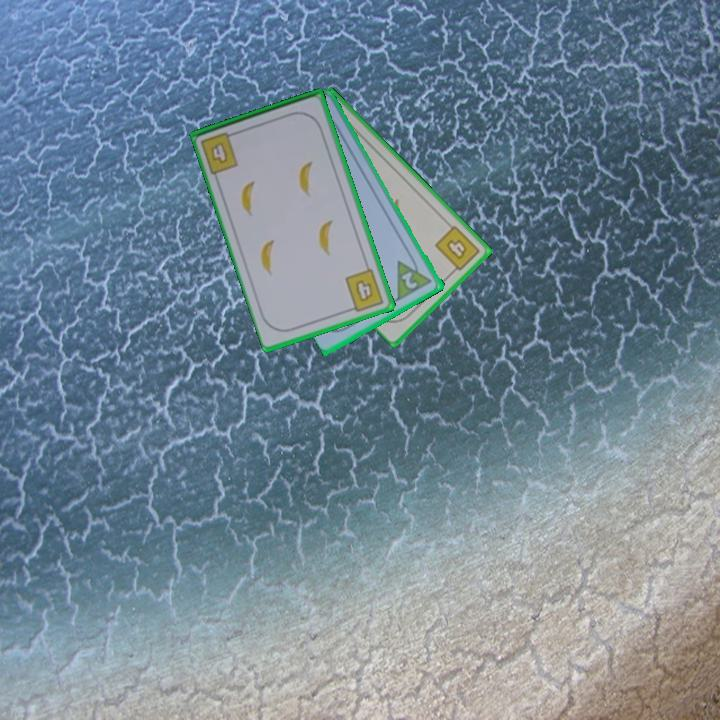2p: (398, 268, 421, 292)
4b: (432, 222, 483, 277), (342, 265, 387, 315), (197, 128, 241, 177)
